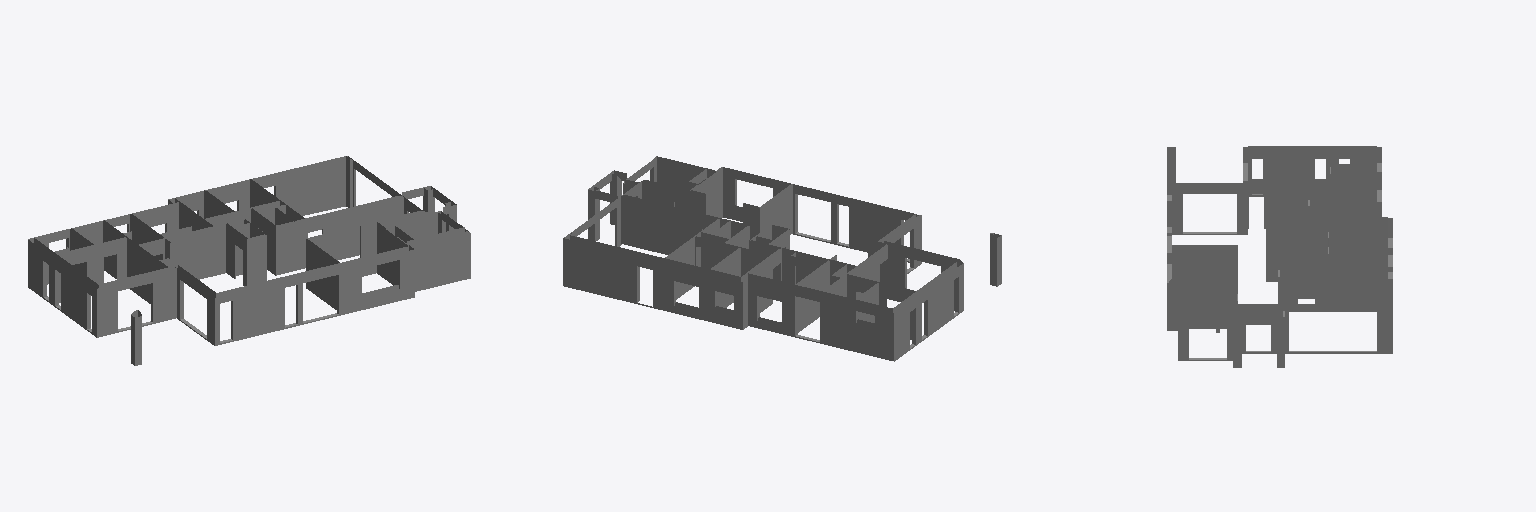
File: octane-walls.obj
The picture shows the model from 3 angles: view 1: azimuth 30°, elevation 25°; view 2: azimuth 150°, elevation 25°; view 3: azimuth 270°, elevation 25°; orthographic projection.
Parts seen in each view (by area): view 1: Basic_Wall_Brick___110__212980_; view 2: Basic_Wall_Brick___110__212980_; view 3: Basic_Wall_Brick___110__212980_.
Part boxes in pixels (x1,y1,x2,y2): Basic_Wall_Brick___110__212980_: (28,156,470,365); Basic_Wall_Brick___110__212980_: (563,156,1001,361); Basic_Wall_Brick___110__212980_: (1167,146,1392,367).
Bounding box in the file's own units: 2234 × 308 × 1230.